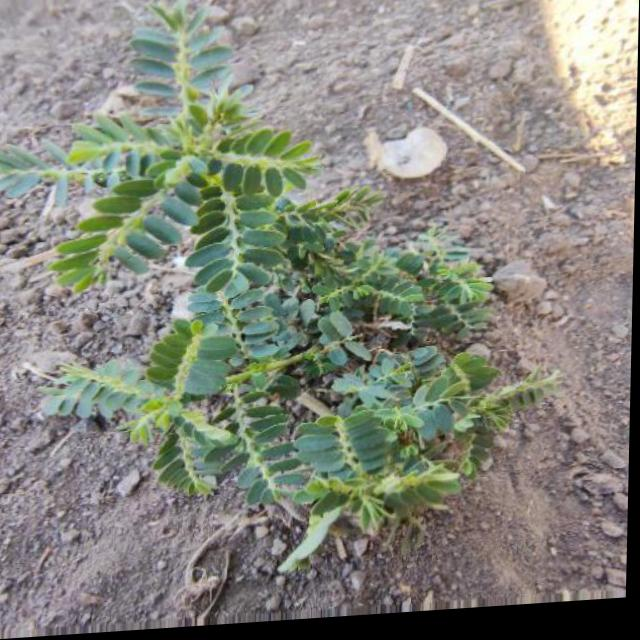weed: (26, 13, 554, 557)
